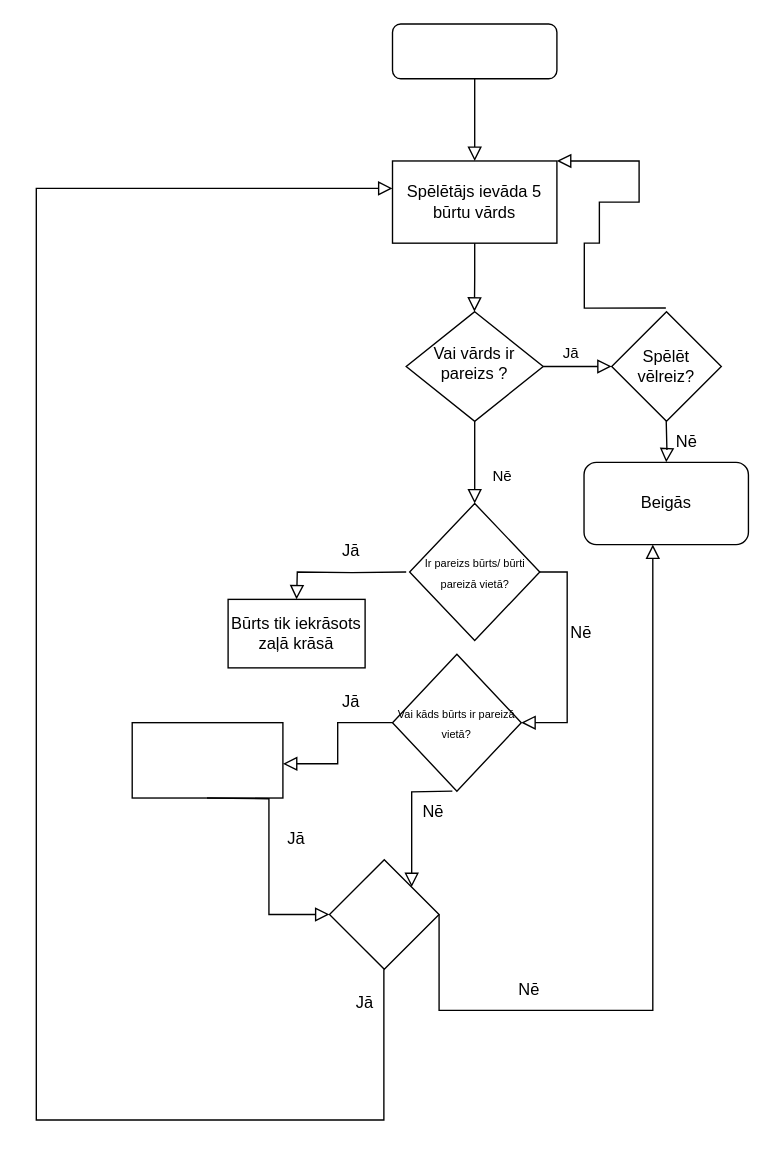
This 773x1158 diagram has some shape labels left out. The shapes that lost their labels are listed below. From the top down, each one's centre as x and y in pixels, then its label:
point 474,51: Sākums
point 207,759: Būrts tik iekrāsots dzēltēnā krāsā
point 383,913: Ir atlikūsi meģinājumi?
